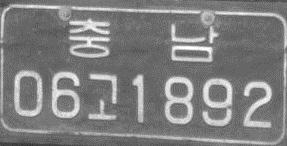0: (13, 68, 43, 117)
1: (124, 74, 155, 124)
2: (242, 80, 272, 129)
6: (50, 71, 80, 119)
8: (162, 75, 193, 125)
9: (201, 78, 233, 126)
고: (86, 72, 119, 120)
충남_D: (68, 16, 218, 62)
